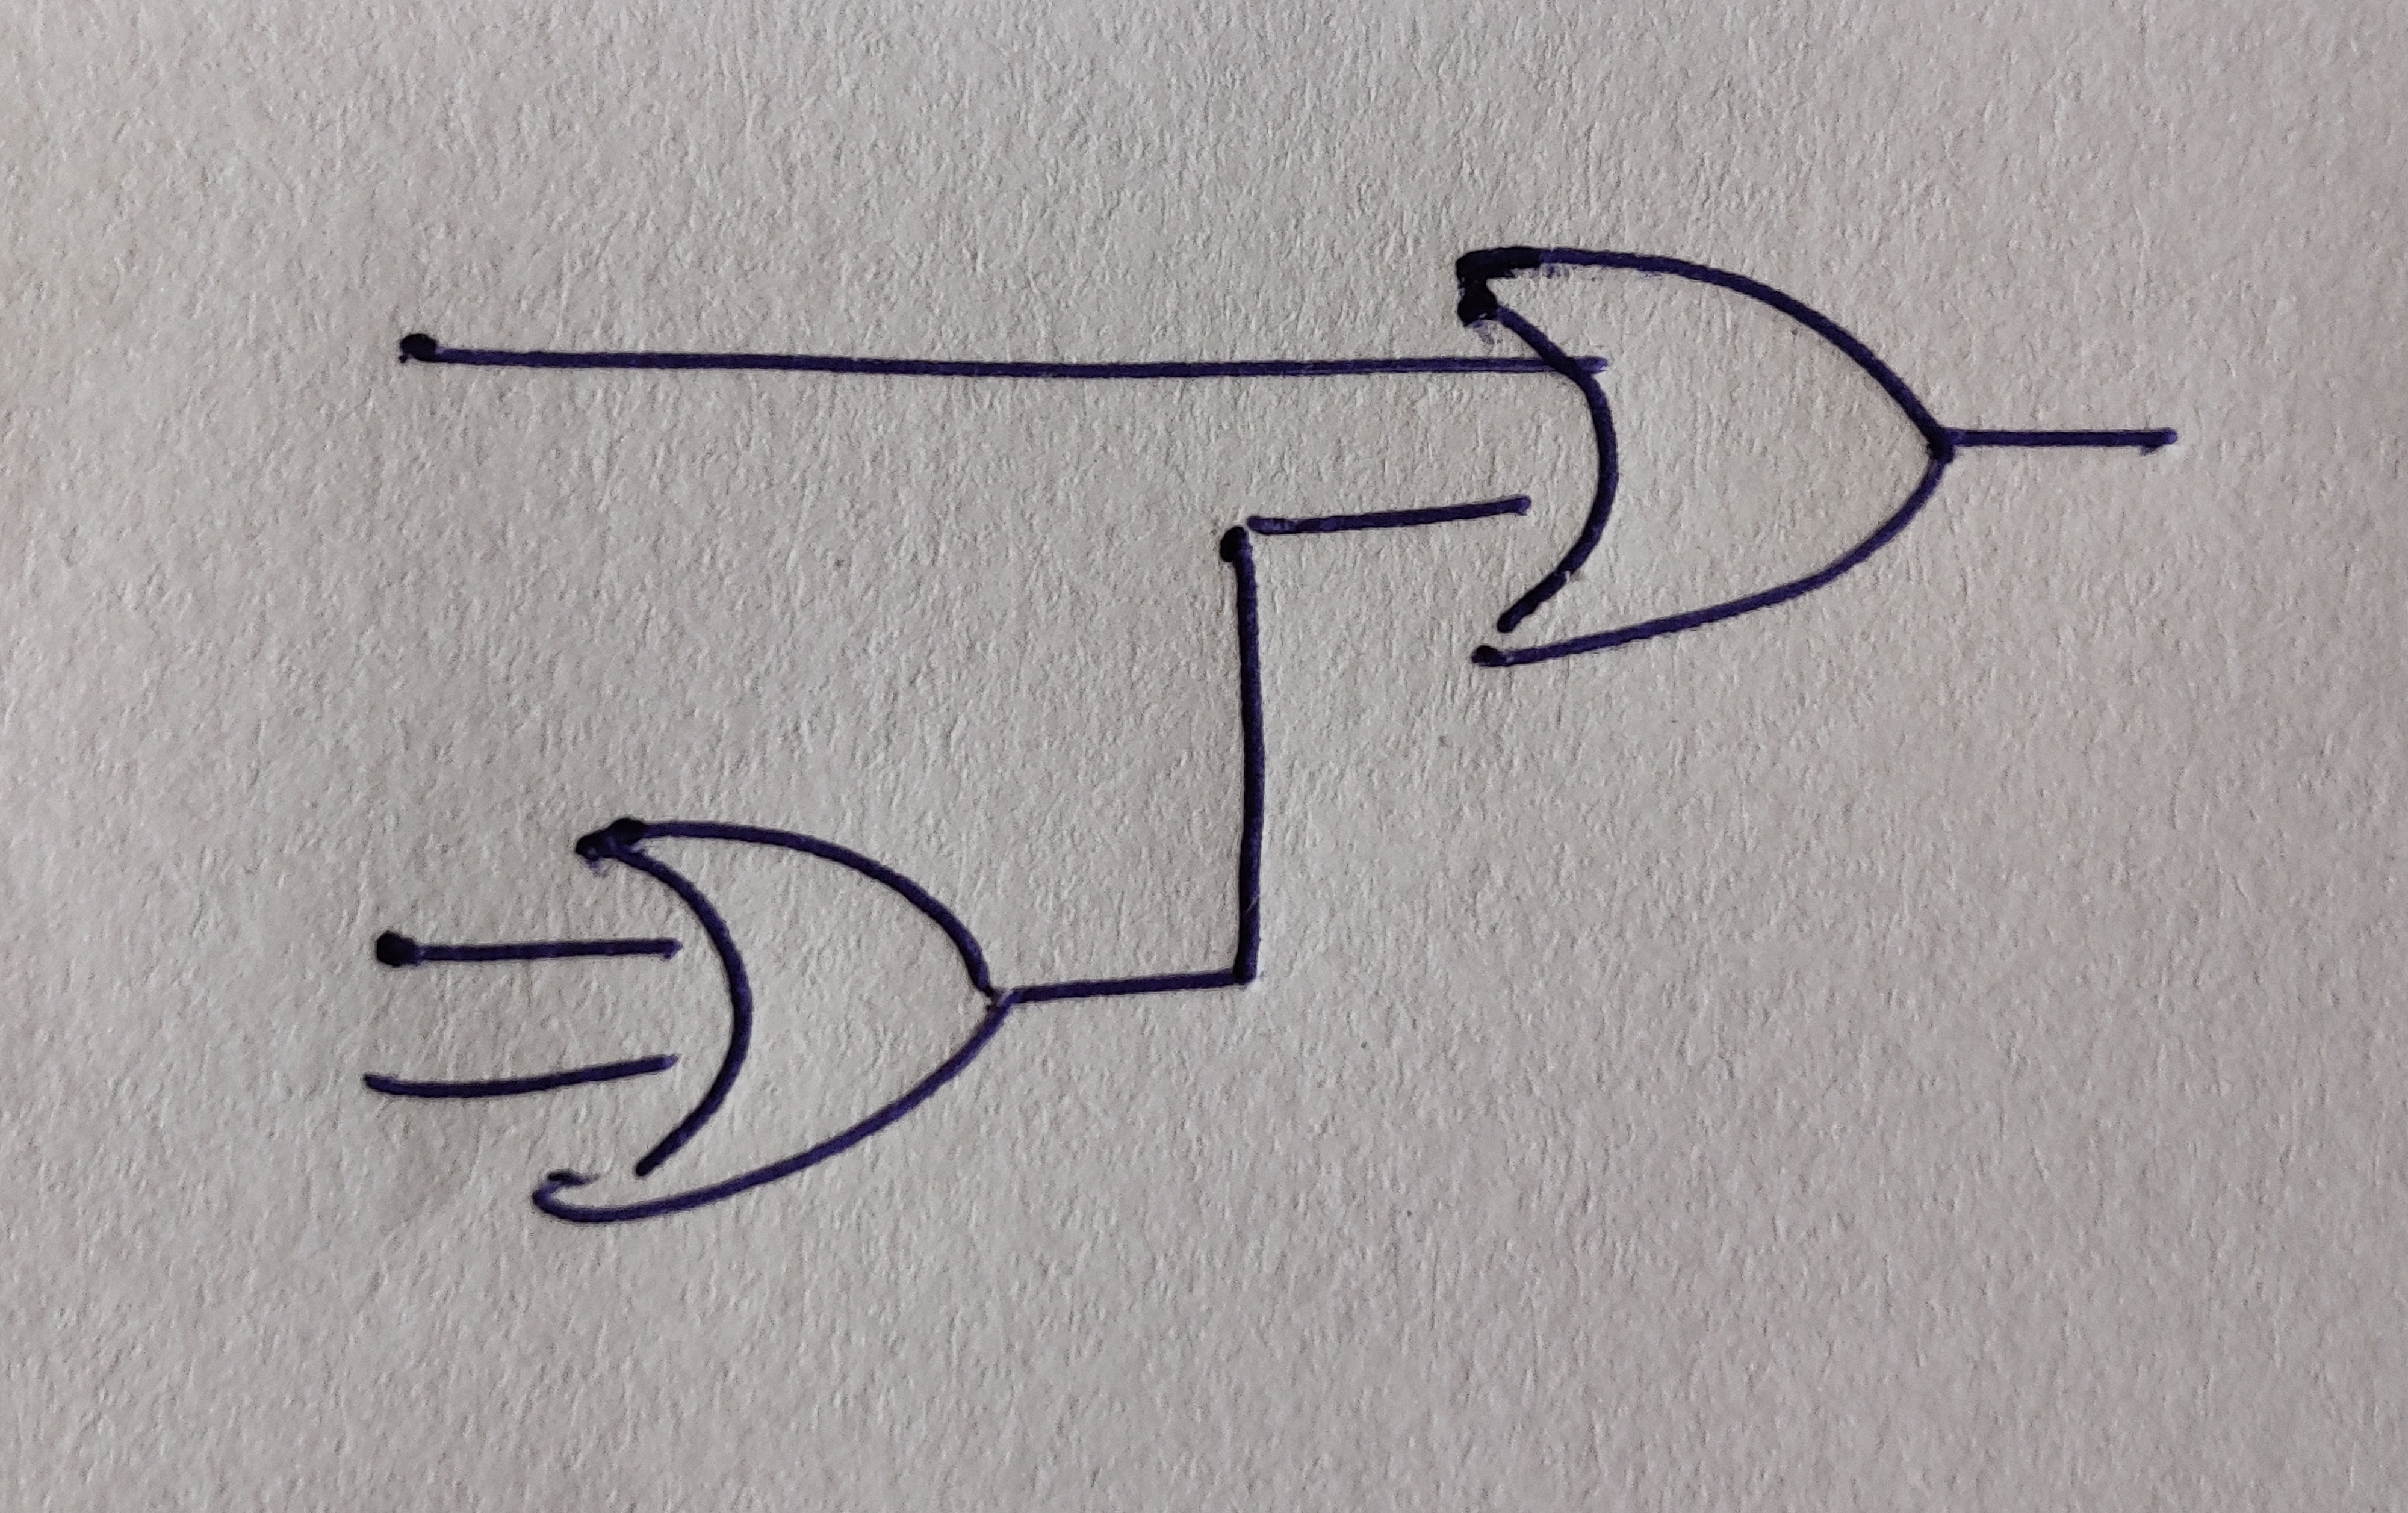or: (1454, 246, 1955, 669), (532, 819, 1010, 1224)
